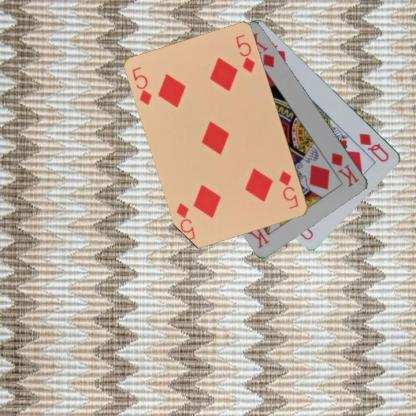5d: (130, 64, 154, 107), (276, 168, 300, 210)
Kd: (328, 150, 360, 188)
Qd: (356, 131, 390, 164)
